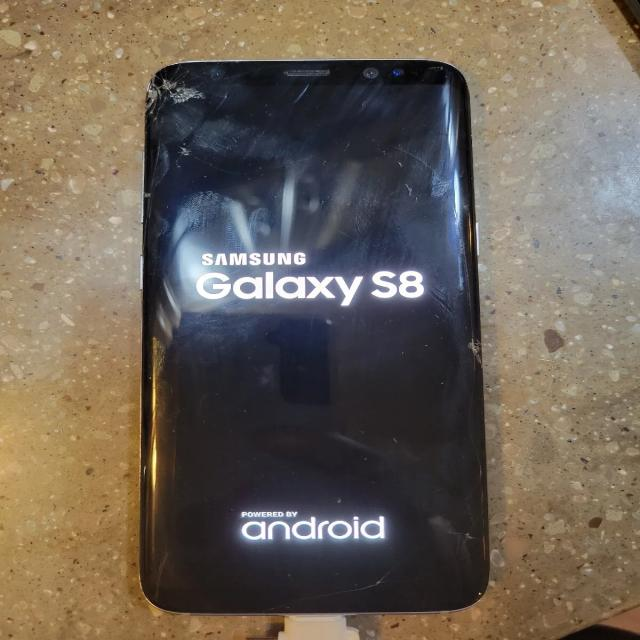Crack: (132, 64, 230, 134), (456, 328, 491, 376)
